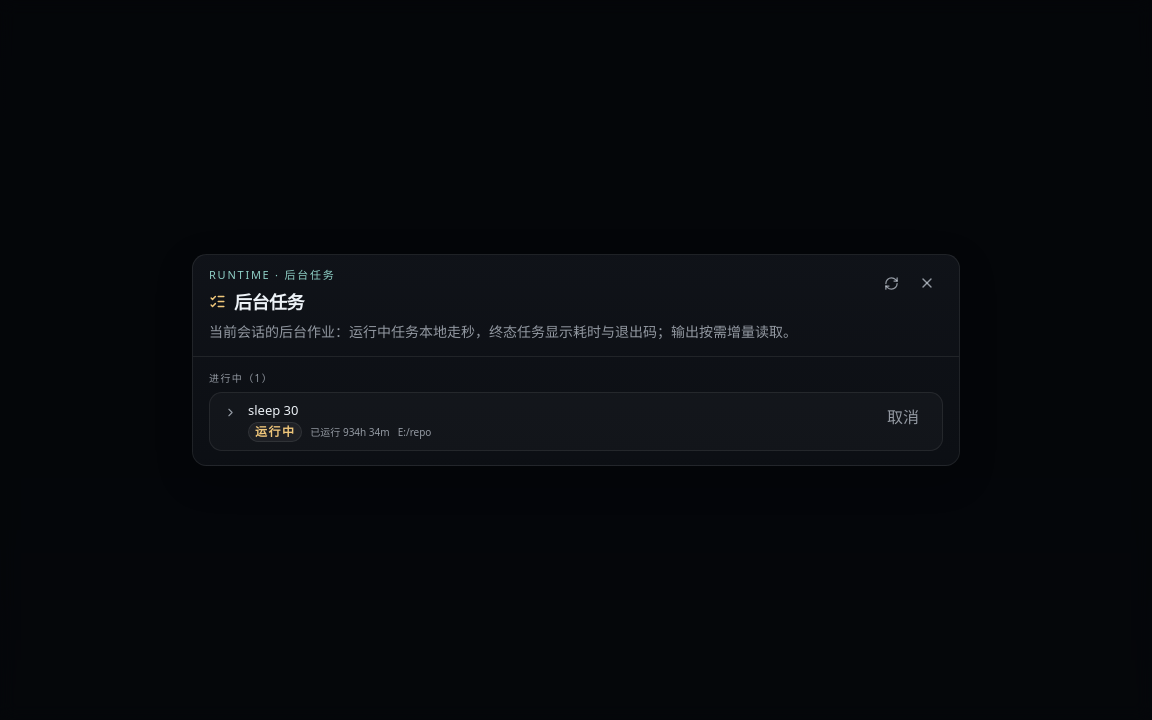
Scenario: JobsPanel › 展开行时按 offset=0 读取输出，再次点击收起
Click the button named "查看 sleep 30 的输出".
click(230, 412)  # box x1=220 y1=402 x2=240 y2=422
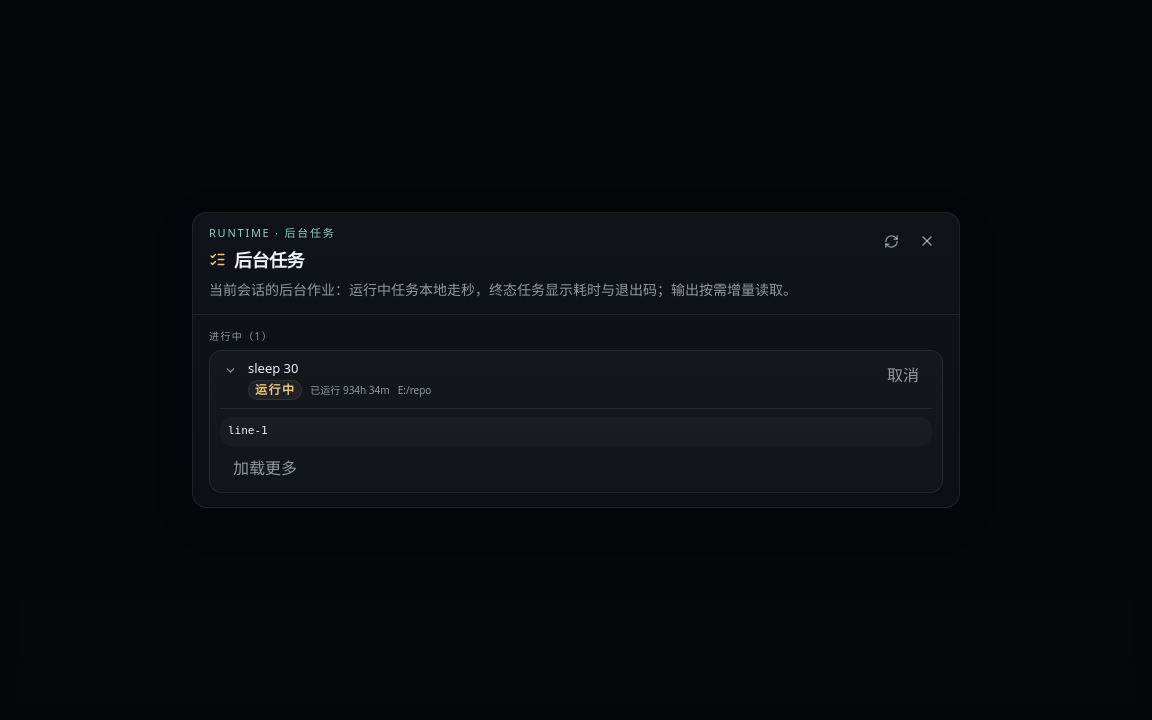
Result: the text "line-1" is shown at x1=220 y1=417 x2=932 y2=446
Result: the button named "查看 sleep 30 的输出" is expanded at x1=220 y1=361 x2=240 y2=381
